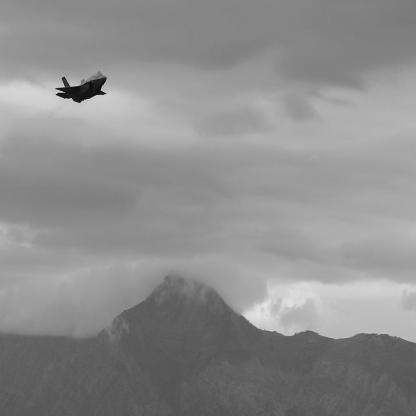F35: (55, 72, 109, 105)
